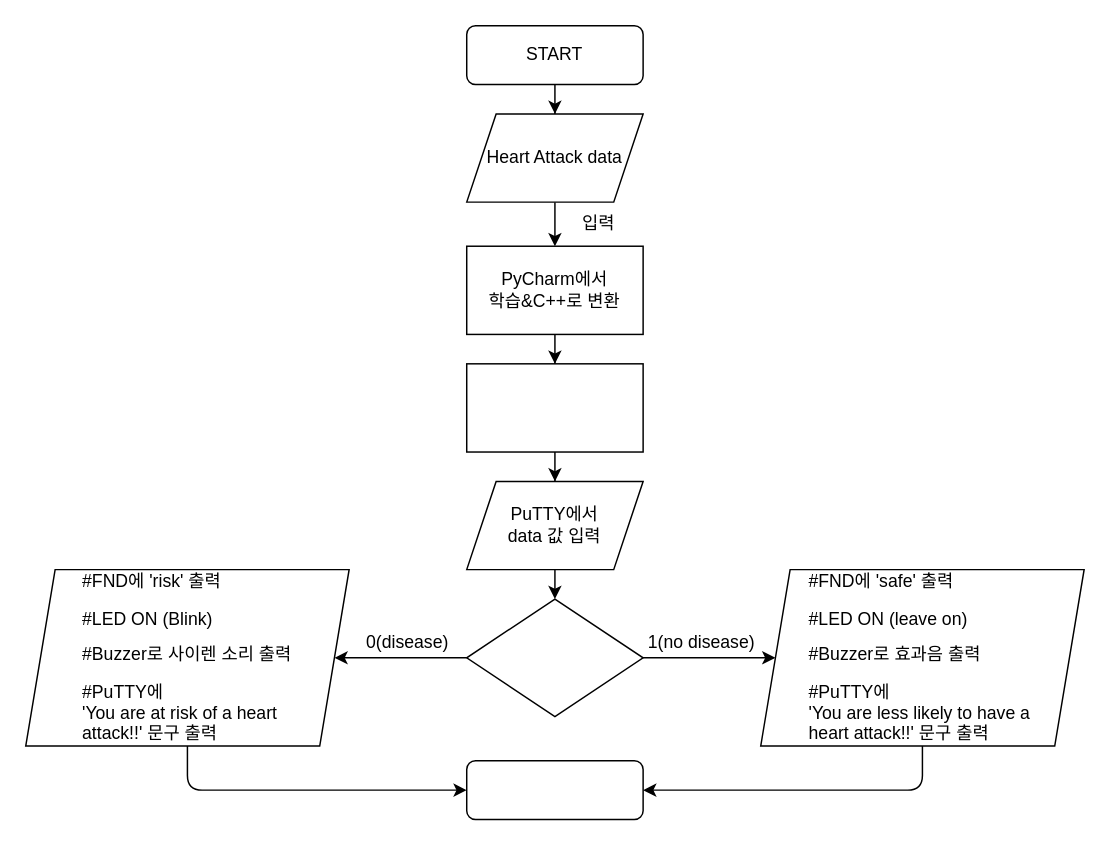
The diagram is 1110 pixels wide and 845 high, and some of its shapes have lost their labels. Each missing label, with the centre of its shape:
"AVR 보드에서 test" goes at [554,657].
"C로 변환 후 AVR 보드에 탑재" goes at [554,407].
"END" goes at [554,789].
